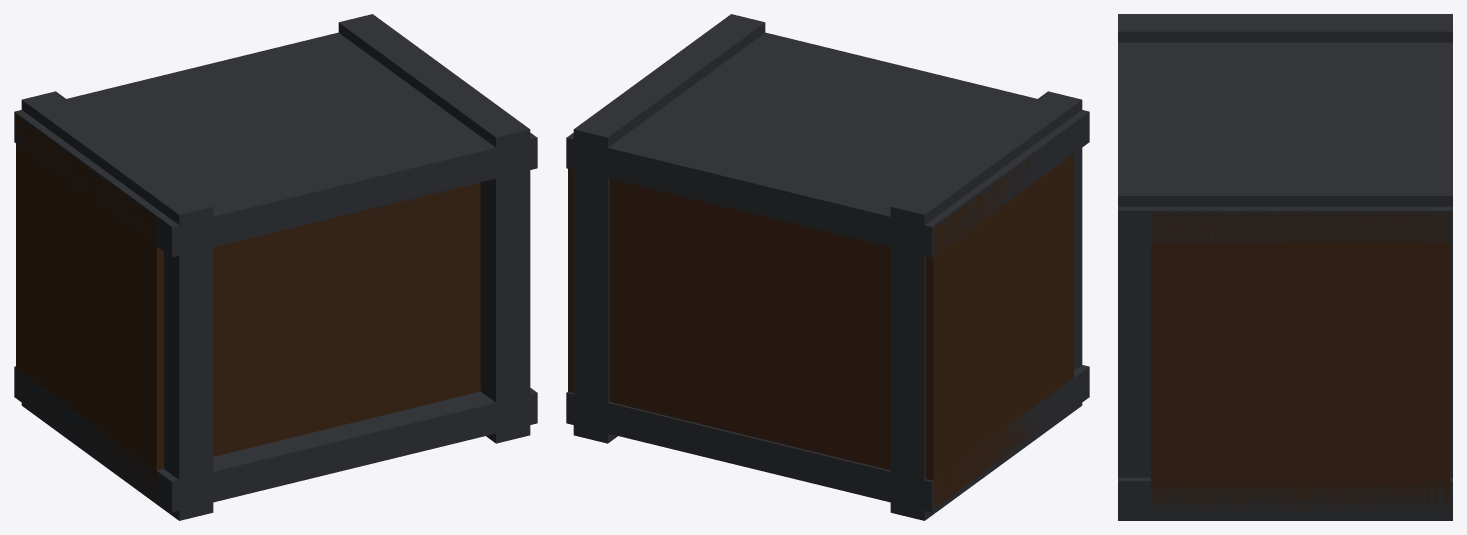
Rendered from SM_MoriaOreCrate.obj.
3 views of the same model, side by side, from view 1: azimuth 30°, elevation 25°; view 2: azimuth 150°, elevation 25°; view 3: azimuth 270°, elevation 25° (orthographic). The views are drawn at different scales.
Visible parts, largest first — view 1: SM_MoriaOreCrate; view 2: SM_MoriaOreCrate; view 3: SM_MoriaOreCrate.
Boxes of the visible parts, bbox=[...] form: SM_MoriaOreCrate: bbox=[14, 14, 537, 520]; SM_MoriaOreCrate: bbox=[566, 14, 1089, 520]; SM_MoriaOreCrate: bbox=[1118, 14, 1452, 520].
Bounding box in the file's own units: 150 × 120 × 112.
